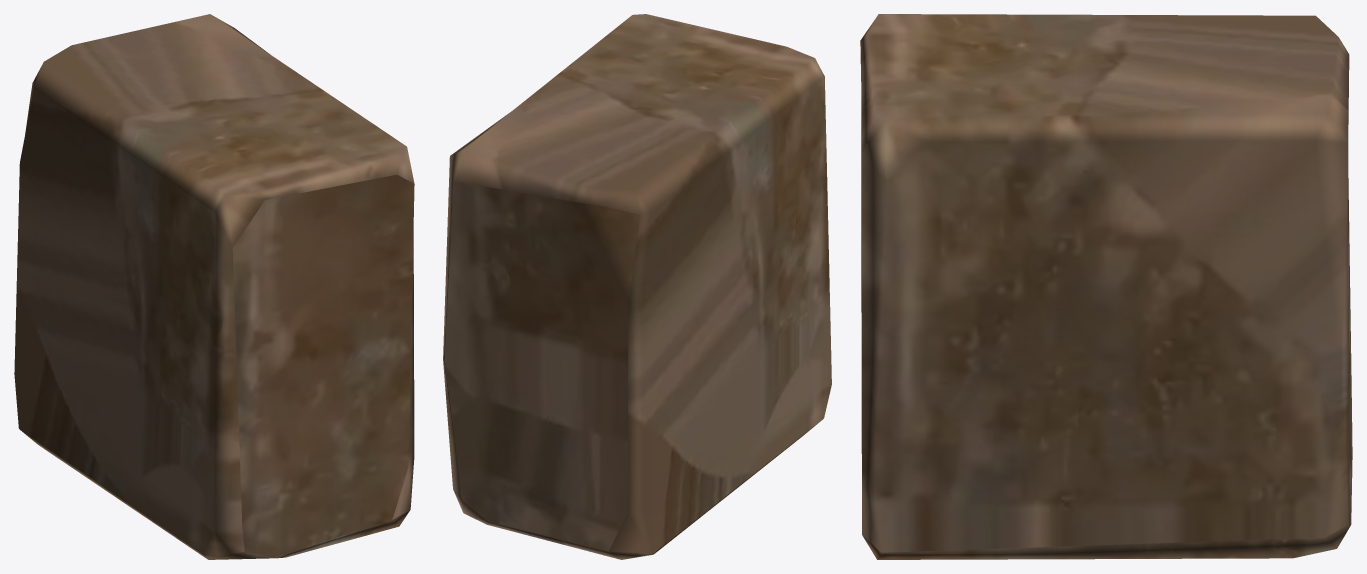
3 views of the same model, side by side, from view 1: azimuth 30°, elevation 25°; view 2: azimuth 150°, elevation 25°; view 3: azimuth 270°, elevation 25° (orthographic). The views are drawn at different scales.
Parts seen in each view (by area): view 1: SM_DK_Brick_01_LOD0; view 2: SM_DK_Brick_01_LOD0; view 3: SM_DK_Brick_01_LOD0.
Part boxes in pixels (x1,y1,x2,y2): SM_DK_Brick_01_LOD0: (14,14,414,559); SM_DK_Brick_01_LOD0: (443,14,831,559); SM_DK_Brick_01_LOD0: (860,14,1352,559).
Size of the model in its own units: 0.7999 by 1.36 by 1.35.
